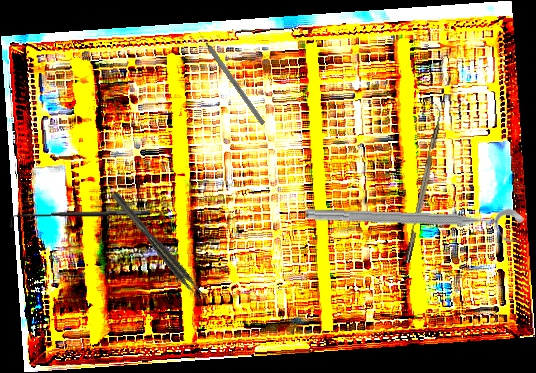Chopper: (397, 103, 446, 264)
Fixation Ring: (305, 202, 525, 245)
Hook Surgical: (194, 27, 266, 126), (9, 207, 151, 229)
Tissue Forceps: (110, 188, 208, 304)
